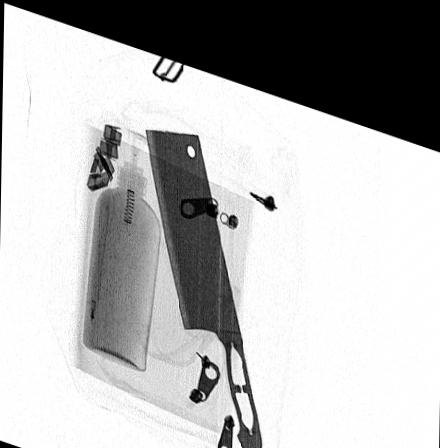Knife: (144, 118, 262, 439)
